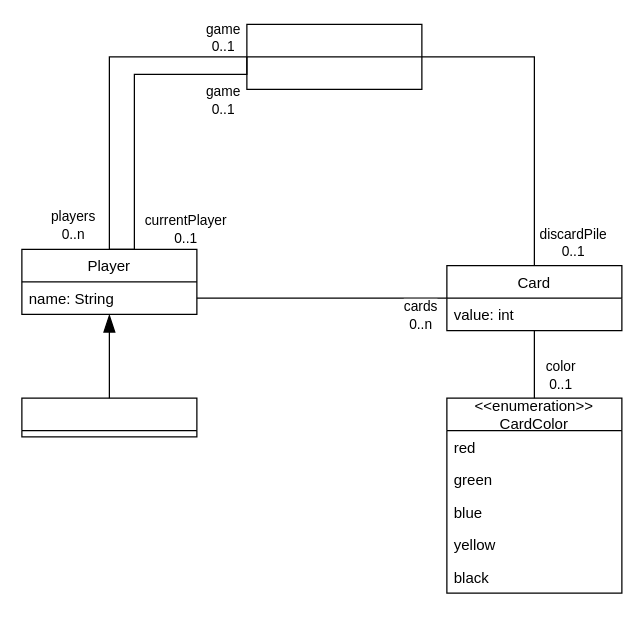
Image size: 644x619. Some labels were removed from this diagram. Here are the shapes that lost their labels. From the top down, the centre of each, then its label:
the point at 334,56: Game
the point at 109,417: Bot
